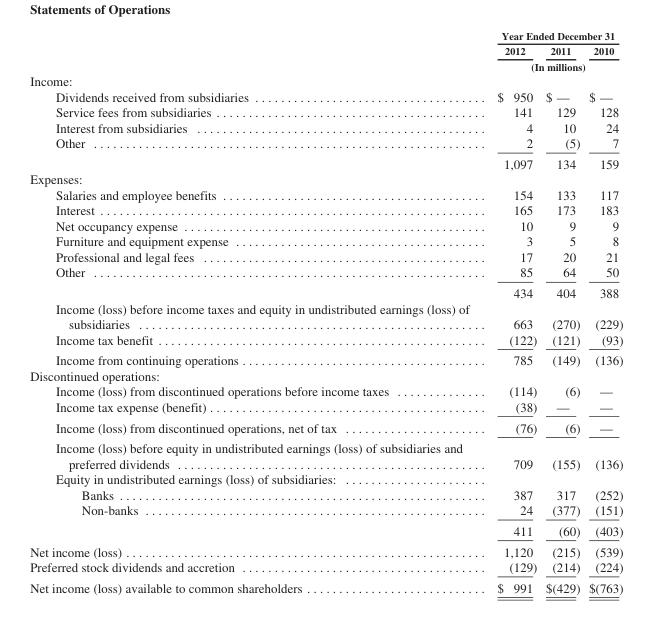table: (29, 29, 622, 594)
table column: (29, 29, 482, 594), (482, 29, 540, 594), (540, 29, 583, 594), (583, 29, 622, 594)
table column header: (29, 29, 622, 72)
table projected row header: (29, 72, 622, 88), (29, 367, 622, 383), (29, 171, 622, 186), (29, 471, 622, 486)
table row: (29, 437, 622, 471), (29, 300, 622, 331), (29, 416, 622, 437), (29, 520, 622, 540), (29, 135, 622, 153), (29, 153, 622, 171), (29, 264, 622, 282), (29, 282, 622, 300), (29, 331, 622, 349), (29, 349, 622, 367), (29, 398, 622, 416), (29, 502, 622, 520), (29, 540, 622, 558), (29, 558, 622, 576), (29, 576, 622, 594), (29, 42, 622, 58), (29, 72, 622, 88), (29, 88, 622, 104), (29, 119, 622, 135), (29, 186, 622, 202), (29, 217, 622, 233), (29, 248, 622, 264), (29, 367, 622, 383), (29, 486, 622, 502), (29, 104, 622, 119), (29, 171, 622, 186), (29, 202, 622, 217), (29, 233, 622, 248), (29, 383, 622, 398), (29, 471, 622, 486), (29, 58, 622, 72), (29, 29, 622, 42)
table spanning cell: (482, 58, 622, 72), (482, 29, 622, 42)
